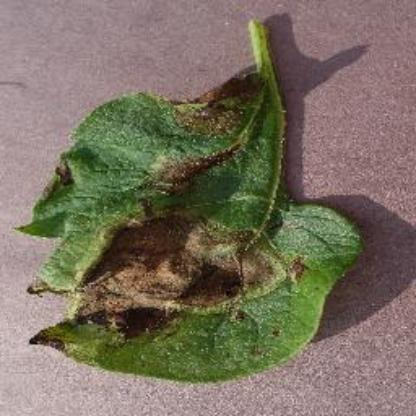Late-Blight: (22, 16, 382, 382)
